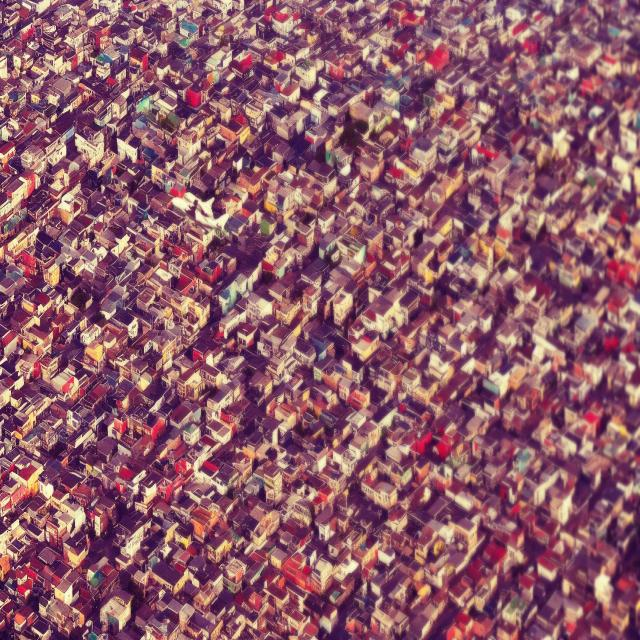airplane: (171, 190, 229, 234)
